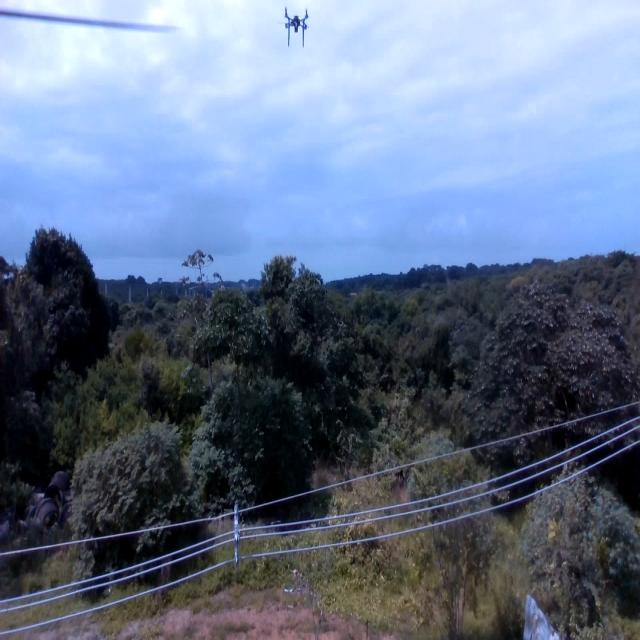-uav-: (276, 8, 321, 56)
